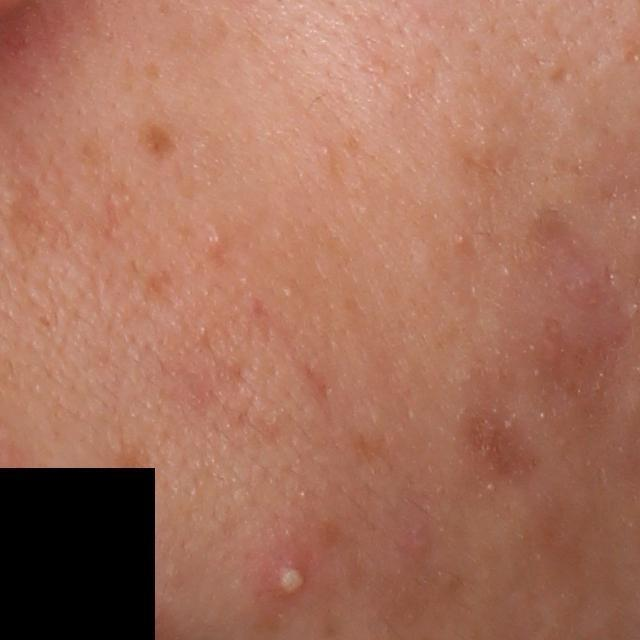atrophic_scar: (545, 65, 572, 85)
comedo: (203, 224, 228, 255), (452, 227, 471, 251)
melasma: (136, 124, 182, 159)
pustule: (269, 547, 317, 600)
